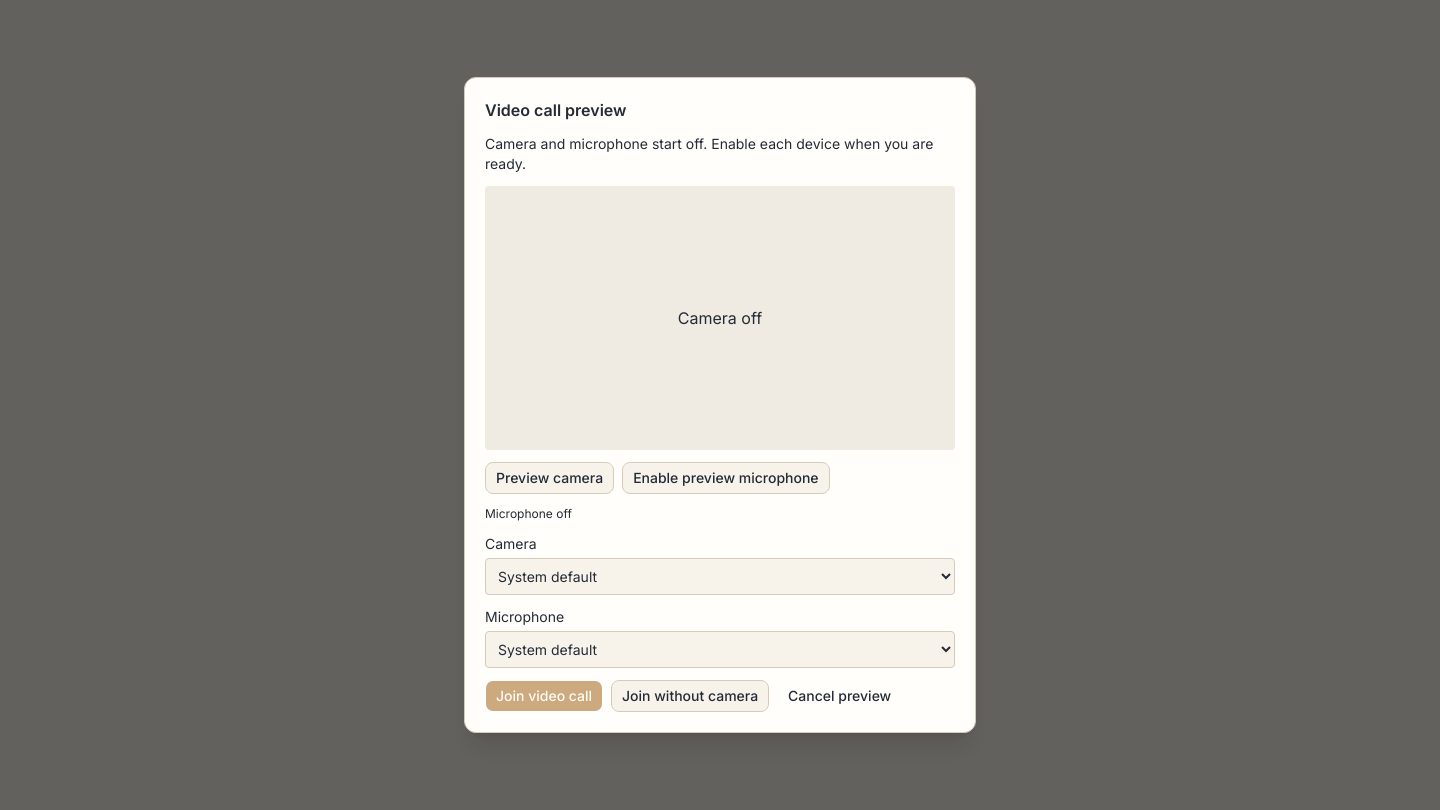
Scenario: keeps join without camera usable after camera denial
Later steps or results of the test are not shown.
Click the button "Preview camera" at (550, 478), box [485, 462, 614, 494]
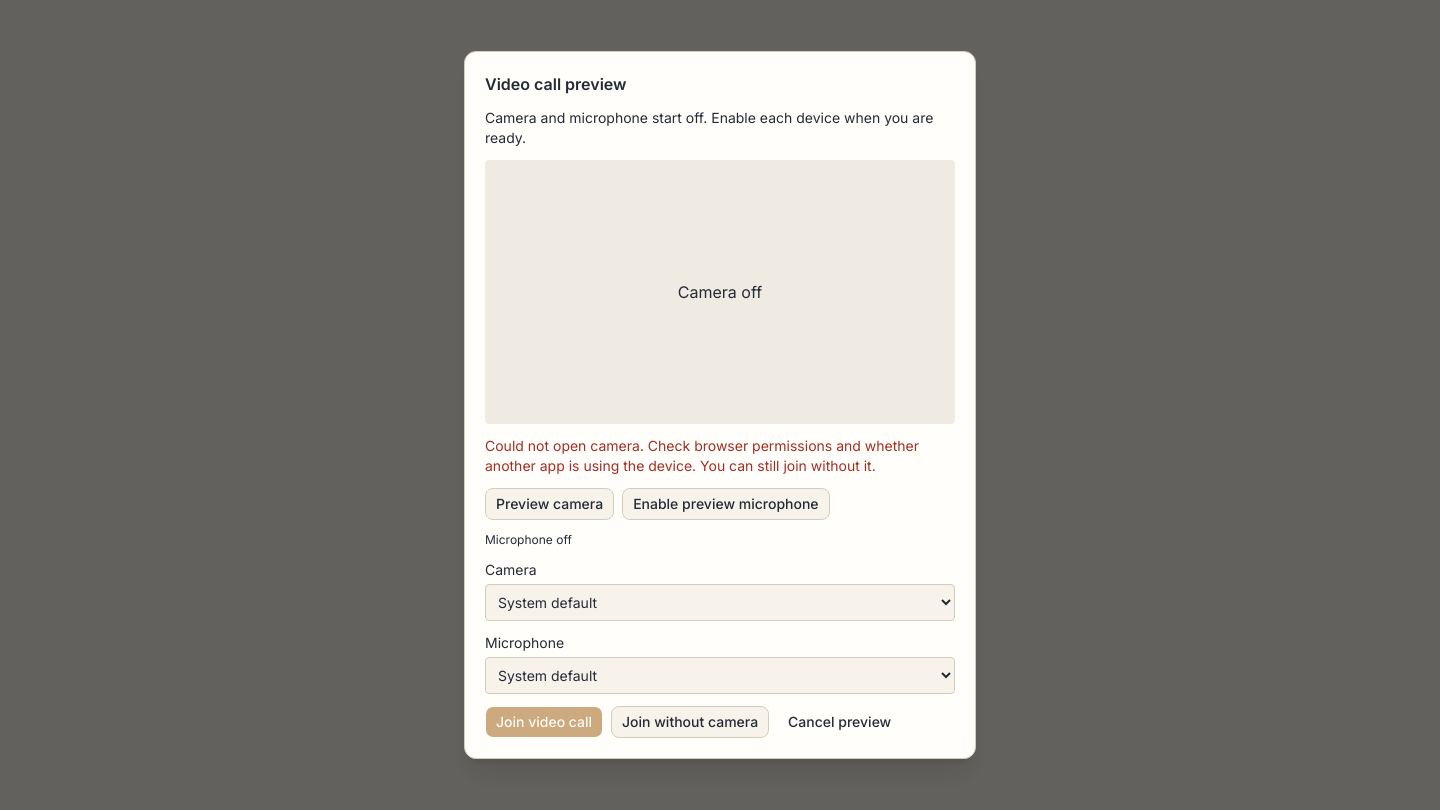
Result: the message is shown at [485, 436, 955, 476]
